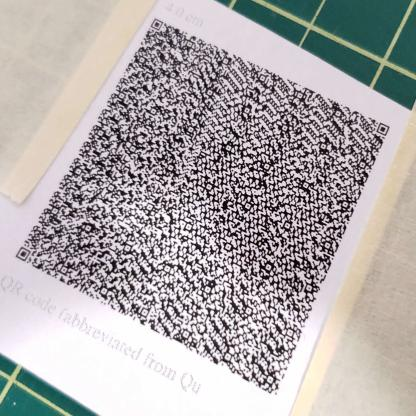qr: (13, 12, 396, 402)
